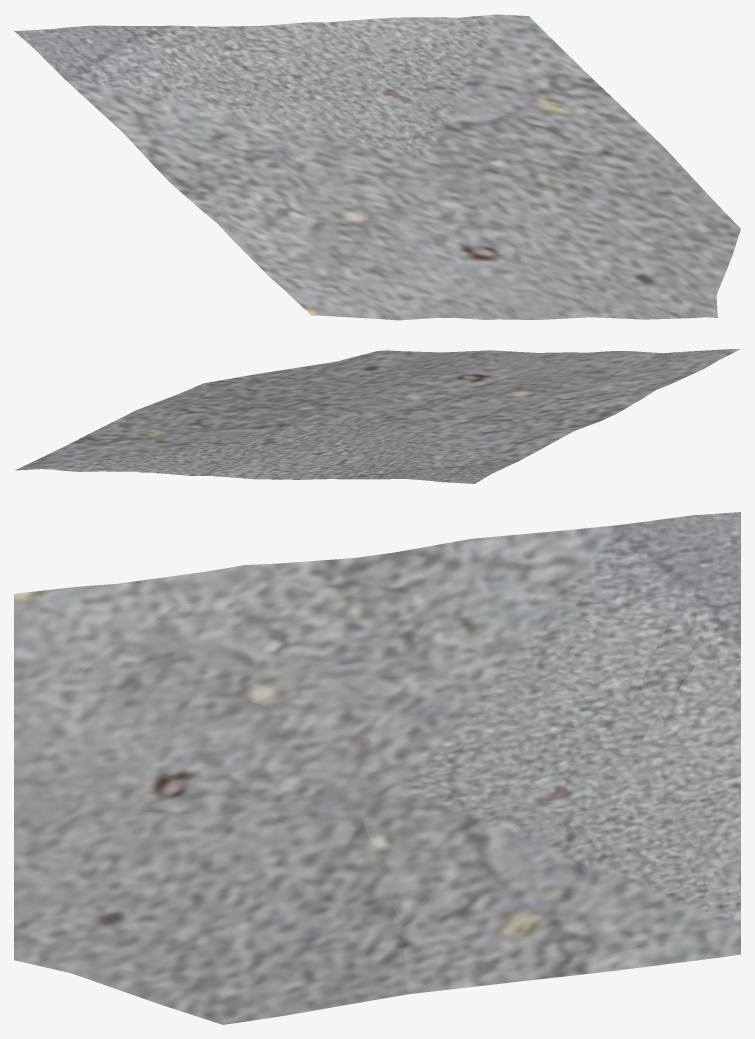
3 views of the same model, one above another, from view 1: azimuth 30°, elevation 25°; view 2: azimuth 150°, elevation 25°; view 3: azimuth 270°, elevation 25° (orthographic). The views are drawn at different scales.
Bounding box in the file's own units: 1.67 × 0.523 × 1.67.
3 materials, 3 textured.
